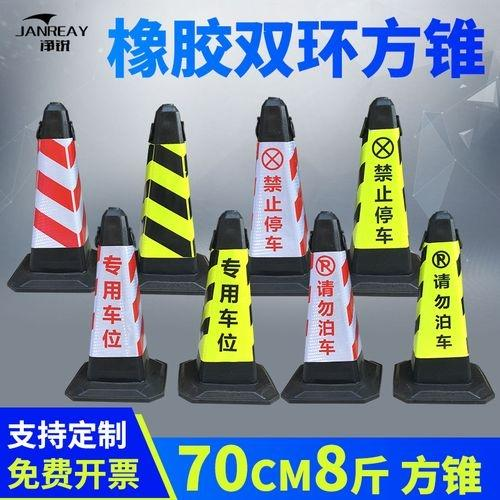cone_barrel: (69, 203, 154, 396), (398, 213, 484, 397), (185, 208, 268, 395), (290, 208, 371, 396), (341, 97, 421, 286), (13, 101, 93, 287), (128, 105, 207, 284), (239, 99, 311, 284)
